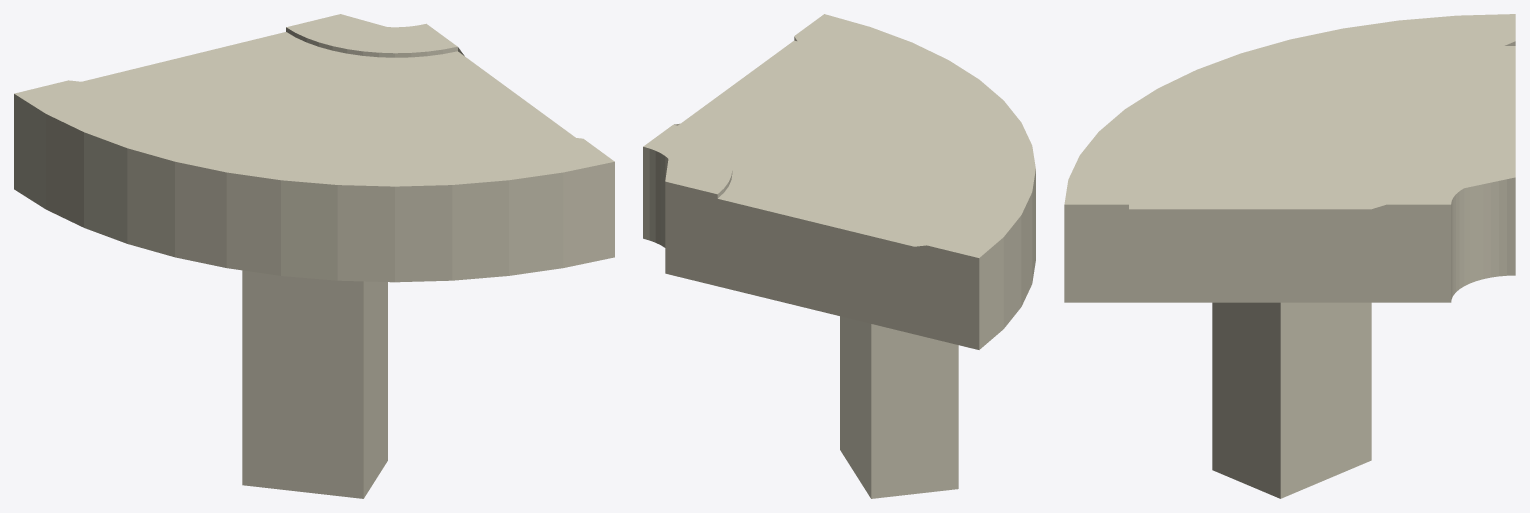
The model's file is roadtile_298.glb.
3 views of the same model, side by side, from view 1: azimuth 30°, elevation 25°; view 2: azimuth 150°, elevation 25°; view 3: azimuth 270°, elevation 25° (orthographic). The views are drawn at different scales.
Parts seen in each view (by area): view 1: Mesh1 Group1 Model; view 2: Mesh1 Group1 Model; view 3: Mesh1 Group1 Model.
Part boxes in pixels (left/top/right/bottom): Mesh1 Group1 Model: left=14, top=14, right=614, bottom=498; Mesh1 Group1 Model: left=643, top=14, right=1035, bottom=498; Mesh1 Group1 Model: left=1064, top=14, right=1515, bottom=498.
Size of the model in its own units: 2.62 by 2.28 by 2.62.
